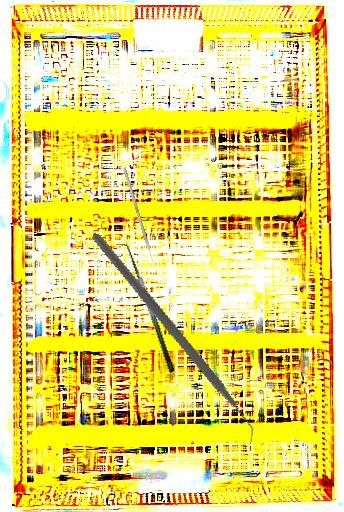Chopper: (43, 232, 300, 450)
Pusher: (122, 167, 158, 272)
Spatula Surgical: (115, 239, 176, 377)
